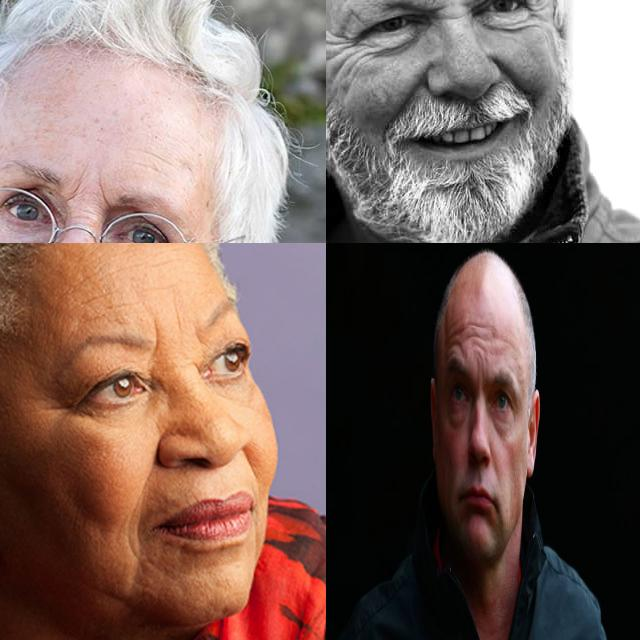crows_feet: (330, 34, 368, 72), (526, 0, 548, 26)
forehead: (75, 284, 127, 326), (466, 315, 486, 361), (448, 326, 461, 355), (500, 332, 514, 351)
frown_line: (67, 172, 113, 214), (149, 324, 163, 360), (172, 304, 188, 330)
gummy_smile: (494, 56, 528, 90), (396, 66, 422, 110), (238, 447, 262, 479)
sad_smile: (118, 511, 150, 567)
